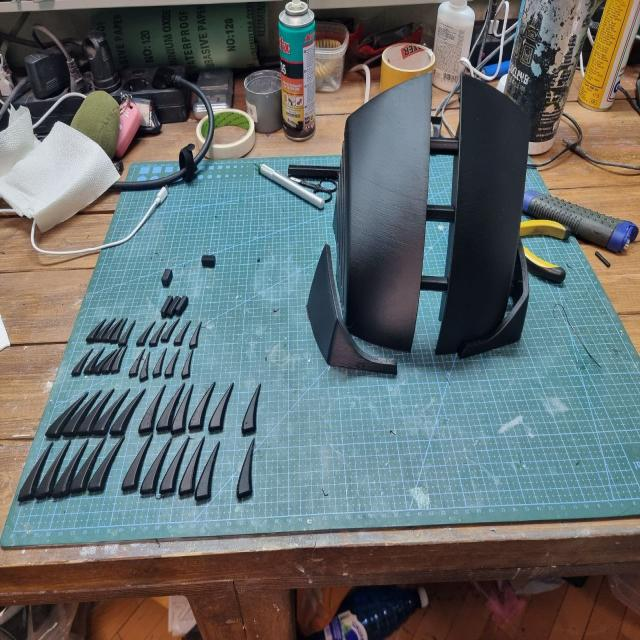Without deffect: (313, 59, 540, 386)
